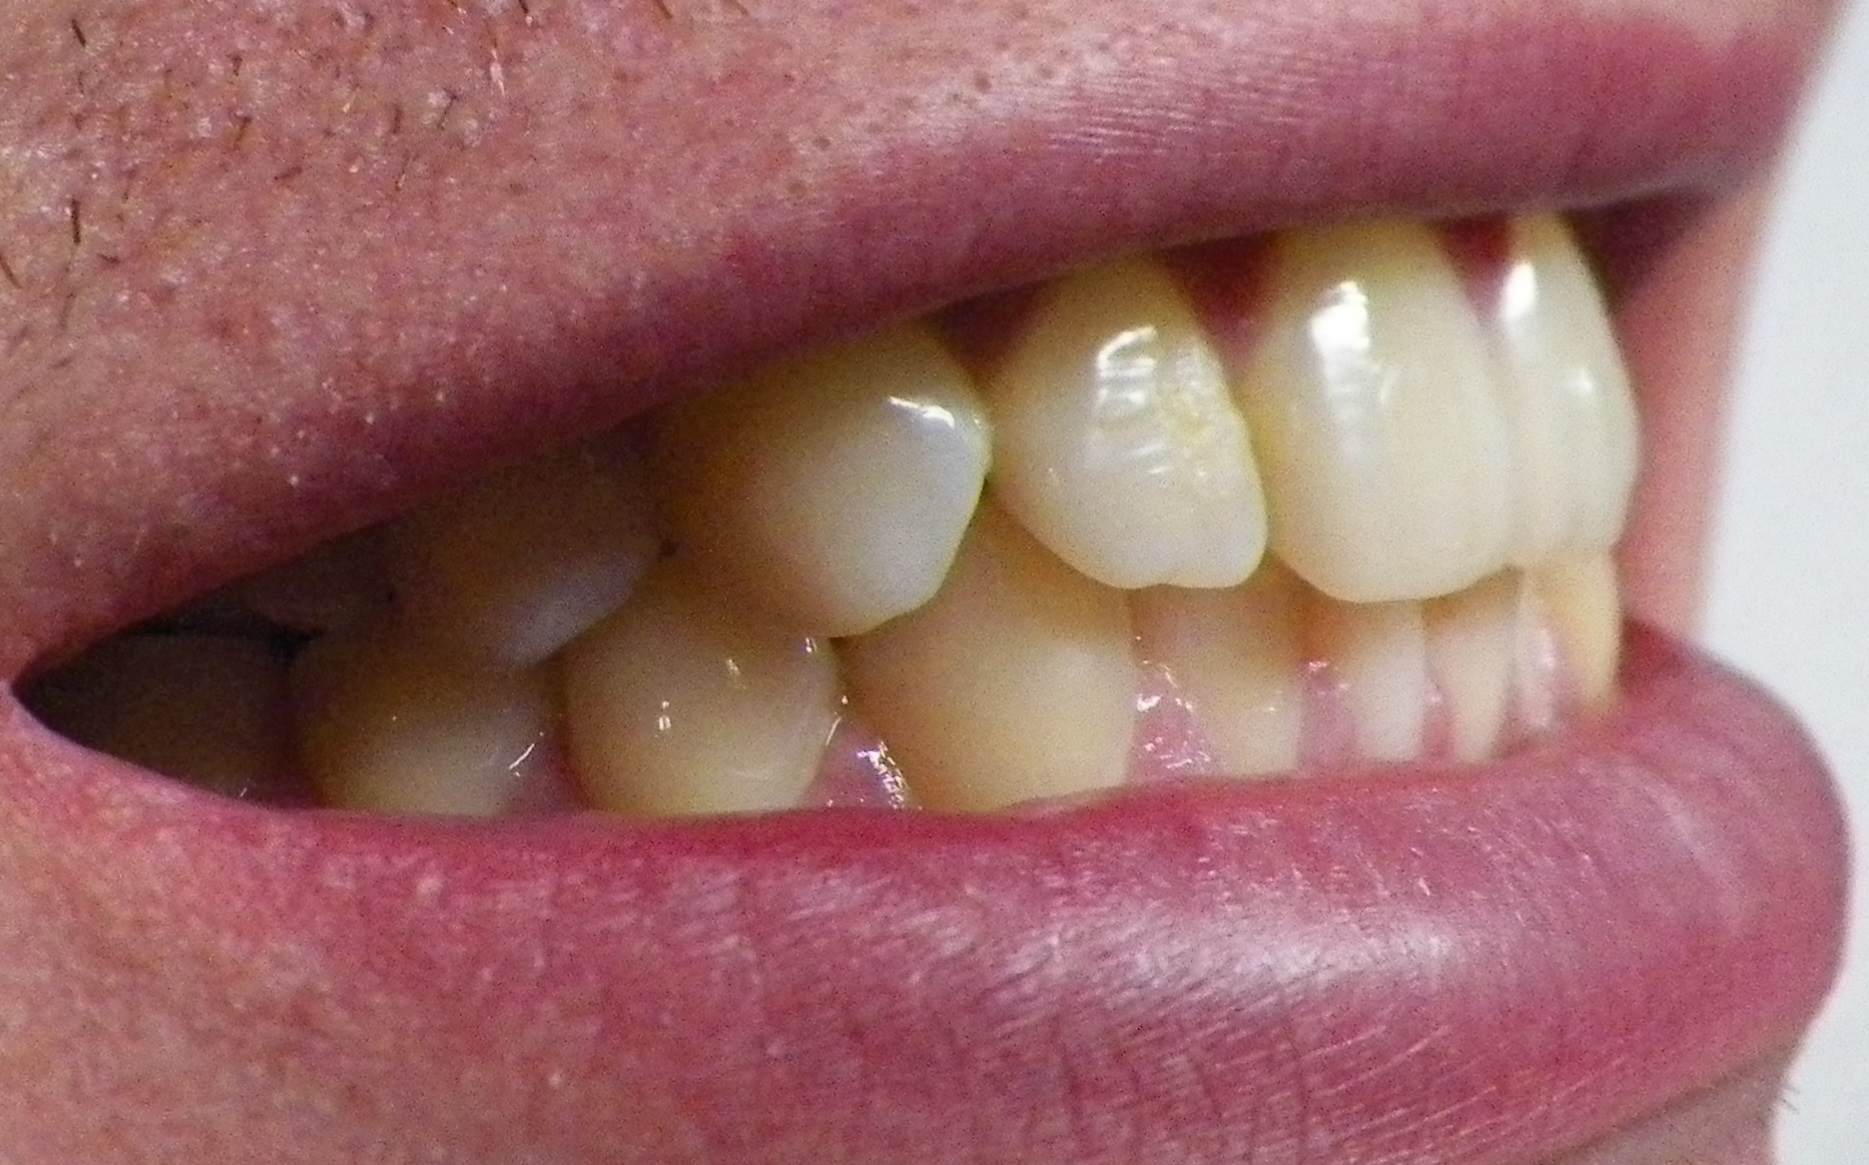boca: (314, 197, 1652, 813)
